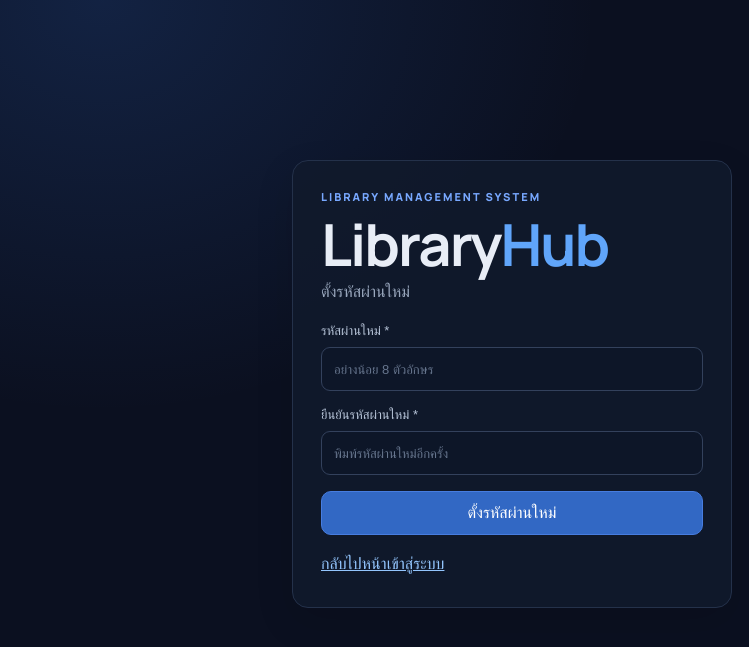
Test: Login › เปิดด้วยลิงก์ ?reset_token: แสดงฟอร์มตั้งรหัสใหม่, ตรวจรหัสไม่ตรงกันก่อนส่ง
Type "NewPassw0rd!" into the password field labelled "รหัสผ่านใหม่ *". click: {"x": 512, "y": 369}
box: x1=321 y1=347 x2=703 y2=391
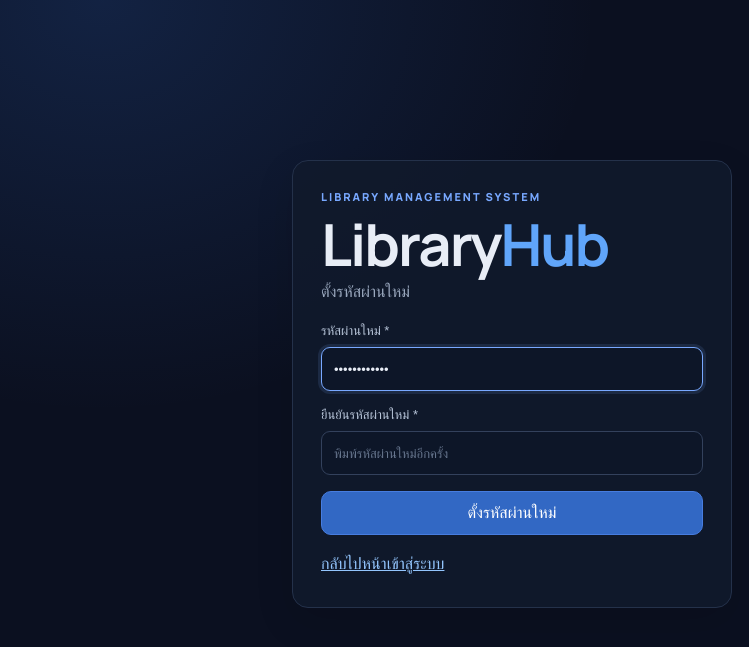
Type "Different1!" into the password field labelled "ยืนยันรหัสผ่านใหม่ *". click: {"x": 512, "y": 453}
box: x1=321 y1=431 x2=703 y2=475
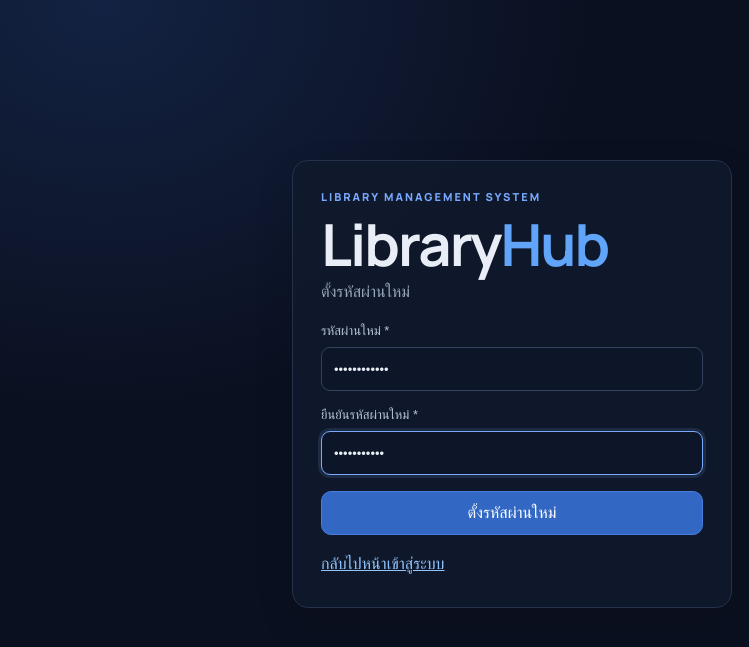
Click the button "ตั้งรหัสผ่านใหม่". click: {"x": 512, "y": 513}
box: x1=321 y1=491 x2=703 y2=535
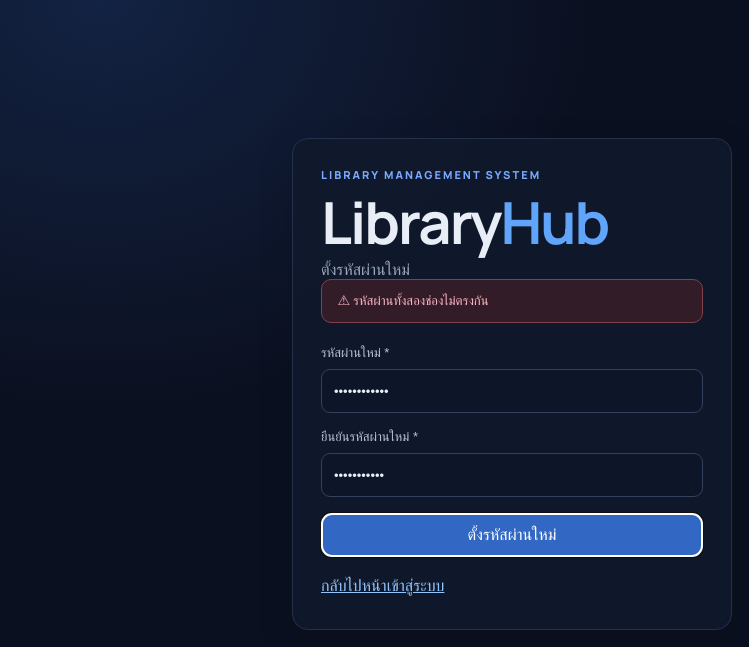
expect the message shows "ไม่ตรงกัน": met, box x1=353 y1=293 x2=489 y2=308
